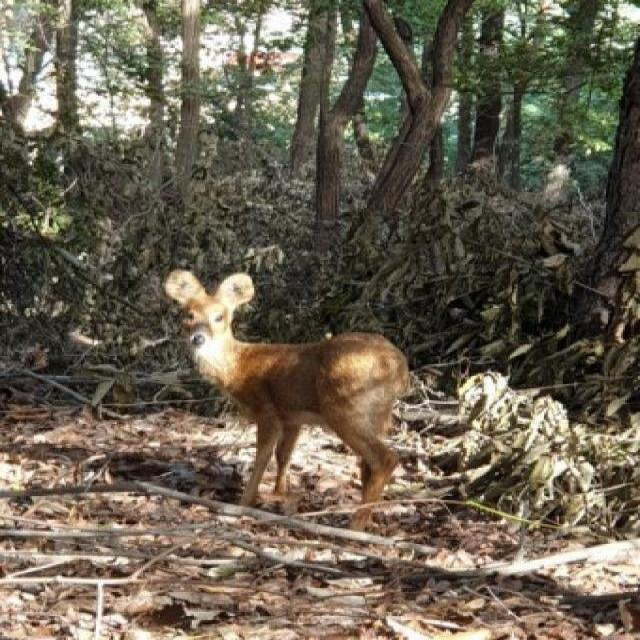deer: (151, 264, 451, 544)
